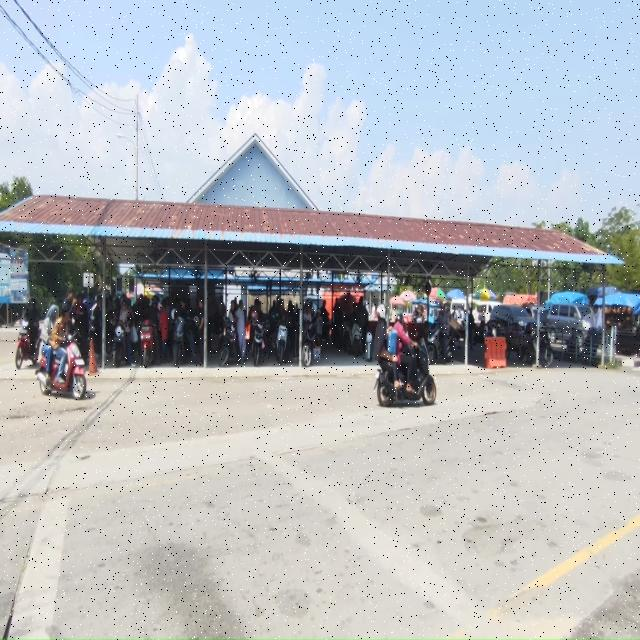Golongan II: (375, 338, 436, 407), (36, 339, 86, 400), (518, 323, 553, 368), (15, 319, 41, 370), (219, 318, 240, 367), (427, 326, 453, 363), (139, 318, 155, 368), (252, 319, 268, 366), (172, 316, 186, 368), (112, 318, 126, 368), (302, 320, 316, 368), (276, 324, 288, 365), (349, 322, 363, 357), (340, 317, 353, 353)
